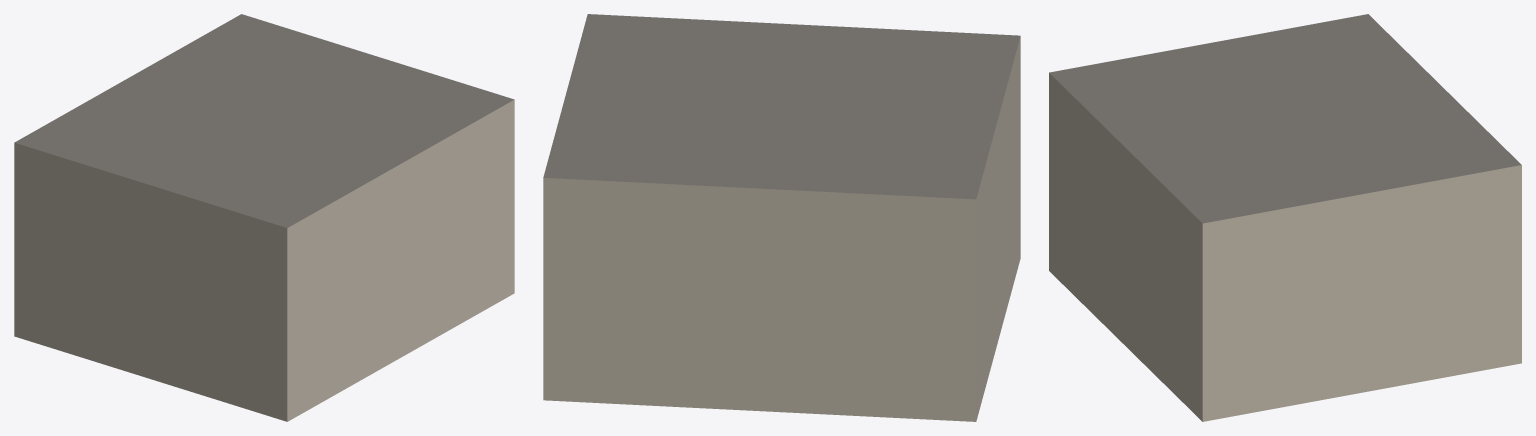
The picture shows the model from 3 angles, left to right: view 1: azimuth 30°, elevation 25°; view 2: azimuth 150°, elevation 25°; view 3: azimuth 270°, elevation 25°; orthographic projection. The views are drawn at different scales.
Parts seen in each view (by area): view 1: HP-w1324024091; view 2: HP-w1324024091; view 3: HP-w1324024091.
Part boxes in pixels (x1,y1,x2,y2): HP-w1324024091: (14, 14, 514, 421); HP-w1324024091: (543, 14, 1020, 421); HP-w1324024091: (1049, 14, 1521, 421).
Bounding box in the file's own units: 27.18 × 12 × 25.91.
